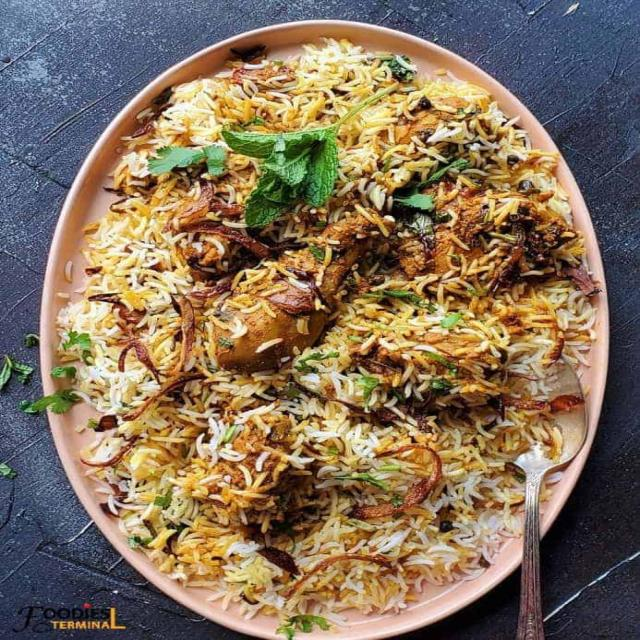chicken biryani: (128, 83, 520, 610)
